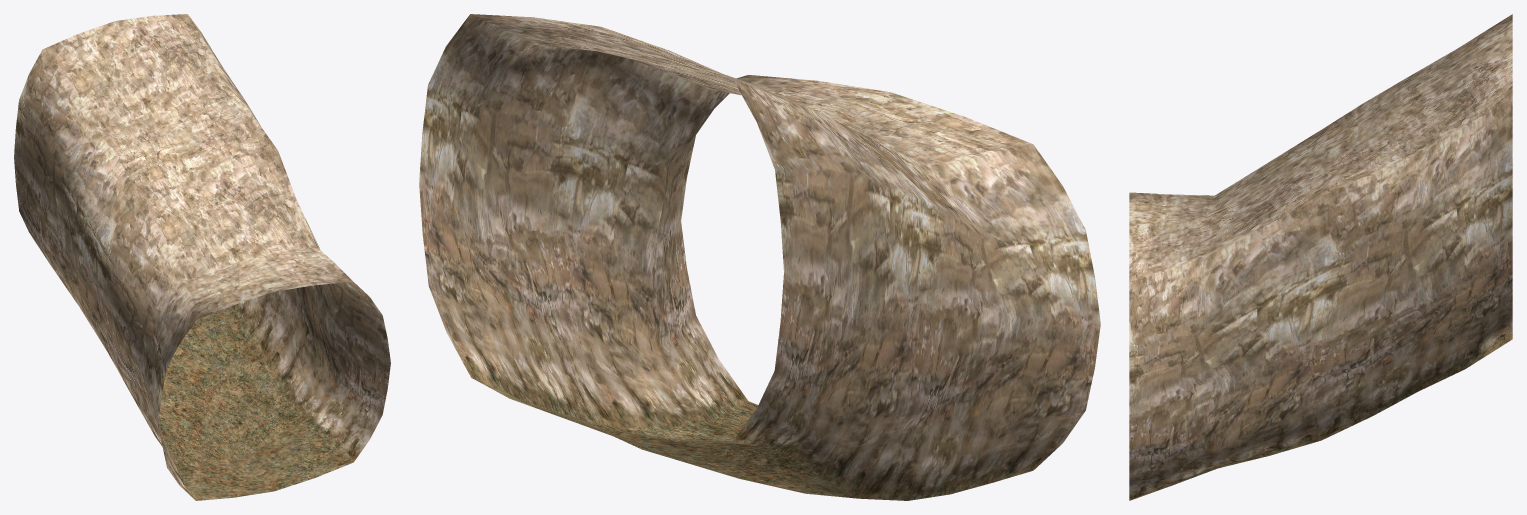
Rendered from thm_all_cave_flatland_s03_r15_mesh_r15.fbx.
3 renders of one model, left to right at view 1: azimuth 30°, elevation 25°; view 2: azimuth 150°, elevation 25°; view 3: azimuth 270°, elevation 25°, orthographic. The views are drawn at different scales.
Parts seen in each view (by area): view 1: mesh_node; view 2: mesh_node; view 3: mesh_node.
Boxes of the visible parts, x1,y1,x2,y2 form: mesh_node: (14, 14, 390, 500); mesh_node: (419, 14, 1100, 500); mesh_node: (1129, 14, 1512, 500).
Size of the model in its own units: 10.42 by 15.14 by 12.44.
